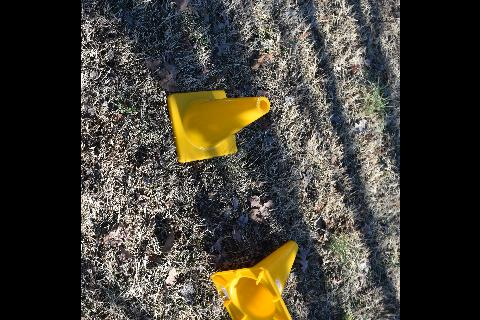cone: (168, 90, 270, 164), (211, 239, 297, 320)
